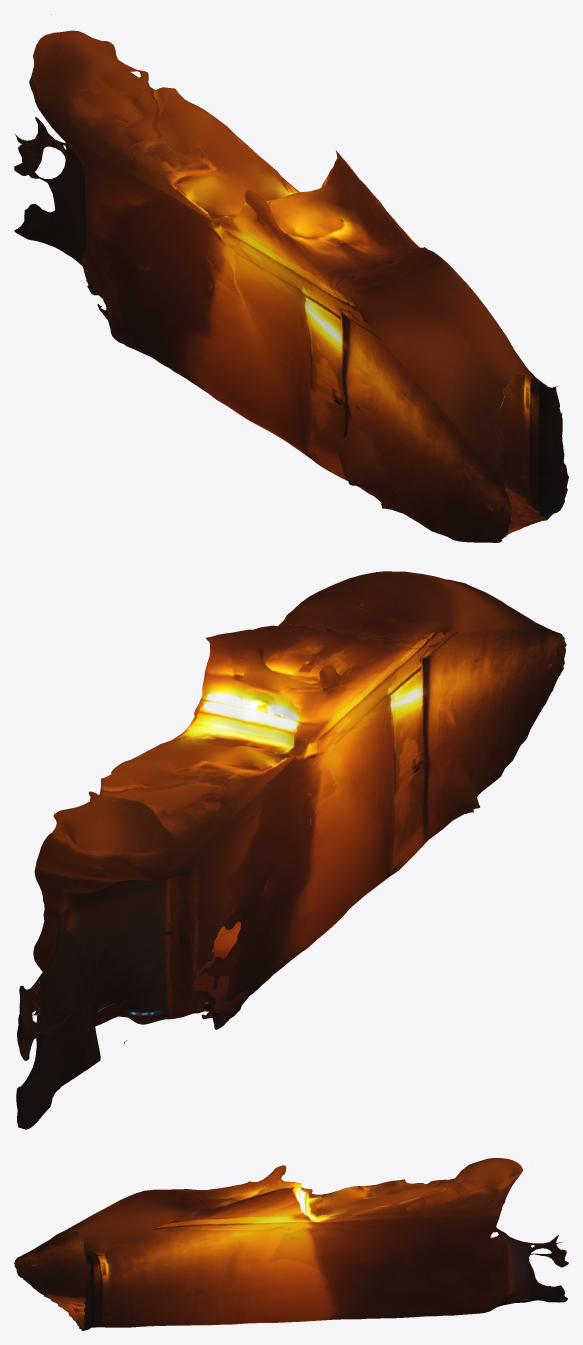
File: coridor_interior_1k.glb
3 views of the same model, one above another, from view 1: azimuth 30°, elevation 25°; view 2: azimuth 150°, elevation 25°; view 3: azimuth 270°, elevation 25° (orthographic). The views are drawn at different scales.
Visible parts, largest first — view 1: Object_2, Object_3, Object_5, Object_6, Object_4; view 2: Object_2, Object_5, Object_3, Object_6, Object_4; view 3: Object_3, Object_4, Object_2, Object_5, Object_6.
Part boxes in pixels (<box>): Object_2: <box>66,68,567,529</box>; Object_3: <box>33,46,563,542</box>; Object_5: <box>14,14,568,518</box>; Object_6: <box>15,89,555,537</box>; Object_4: <box>14,116,562,531</box>; Object_2: <box>35,571,553,987</box>; Object_5: <box>17,629,496,1129</box>; Object_3: <box>35,602,566,1062</box>; Object_6: <box>17,619,559,1059</box>; Object_4: <box>16,605,504,1123</box>; Object_3: <box>14,1159,538,1328</box>; Object_4: <box>86,1189,566,1322</box>; Object_2: <box>24,1165,517,1327</box>; Object_5: <box>81,1158,567,1330</box>; Object_6: <box>15,1179,568,1321</box>.
Size of the model in its own units: 13.3 by 17.57 by 62.96.
Materials: 5 (5 with a texture image).
